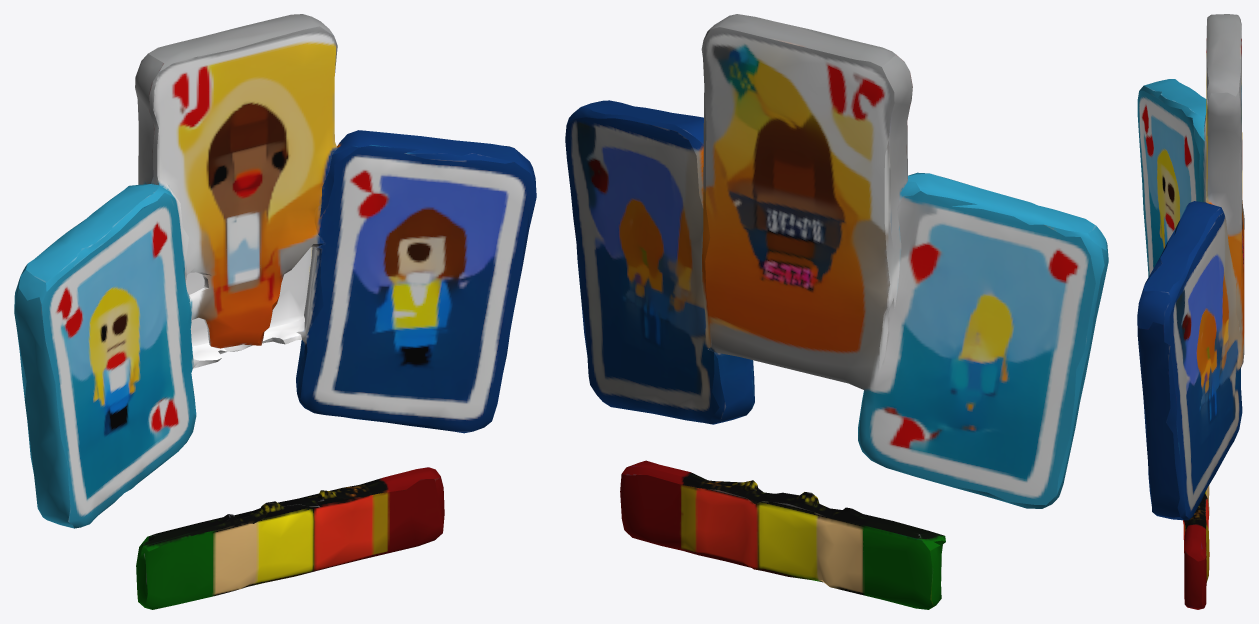
The model's file is lesiakower-vending-1586.glb.
3 views of the same model, side by side, from view 1: azimuth 30°, elevation 25°; view 2: azimuth 150°, elevation 25°; view 3: azimuth 270°, elevation 25° (orthographic). The views are drawn at different scales.
Parts seen in each view (by area): view 1: geometry_0; view 2: geometry_0; view 3: geometry_0.
Boxes of the visible parts, <box> form: geometry_0: <box>14,14,536,609</box>; geometry_0: <box>565,14,1108,609</box>; geometry_0: <box>1137,14,1244,609</box>.
Bounding box in the file's own units: 1 × 0.9928 × 0.1988.
1 material, 1 textured.
